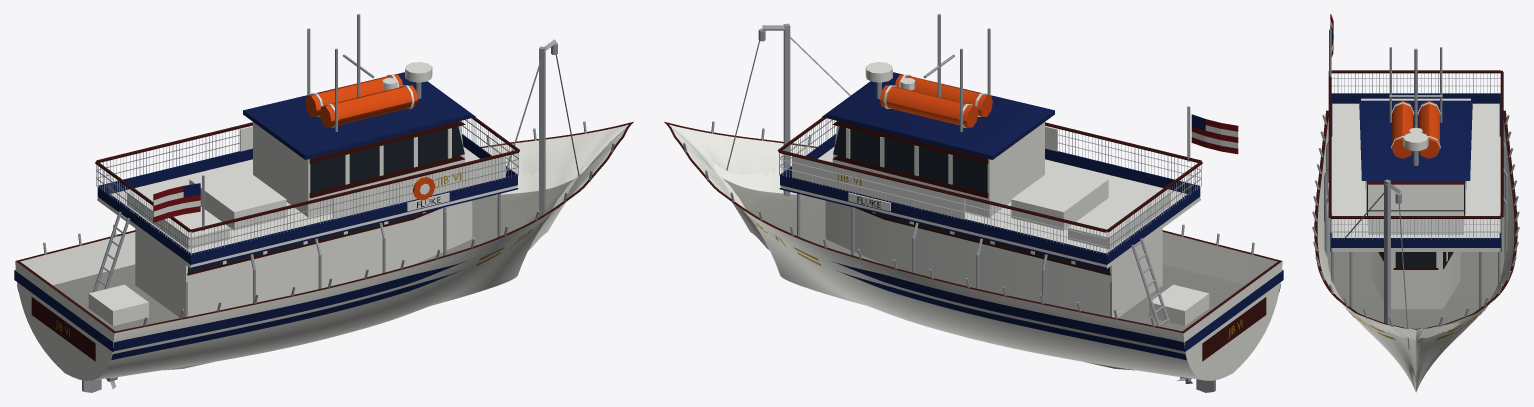
File: jib_vi_wide.obj
3 views of the same model, side by side, from view 1: azimuth 30°, elevation 25°; view 2: azimuth 150°, elevation 25°; view 3: azimuth 270°, elevation 25° (orthographic). The views are drawn at different scales.
Parts seen in each view (by area): view 1: JIB_VI; view 2: JIB_VI; view 3: JIB_VI.
Boxes of the visible parts, bbox=[...] form: JIB_VI: bbox=[14, 14, 633, 392]; JIB_VI: bbox=[664, 14, 1283, 392]; JIB_VI: bbox=[1312, 14, 1519, 392].
Bounding box in the file's own units: 19.07 × 9.96 × 6.6.
